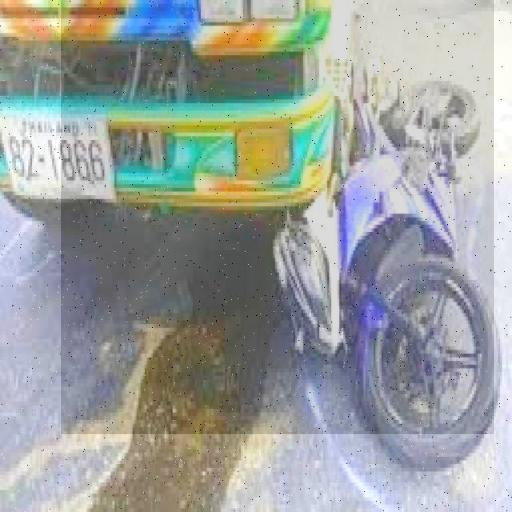小汽车撞自行车: (61, 0, 494, 434)
